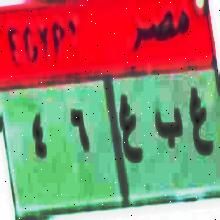4: (28, 104, 50, 162)
6: (69, 100, 93, 160)
baa: (153, 100, 183, 156)
ghayn: (186, 84, 214, 166), (117, 90, 144, 175)
